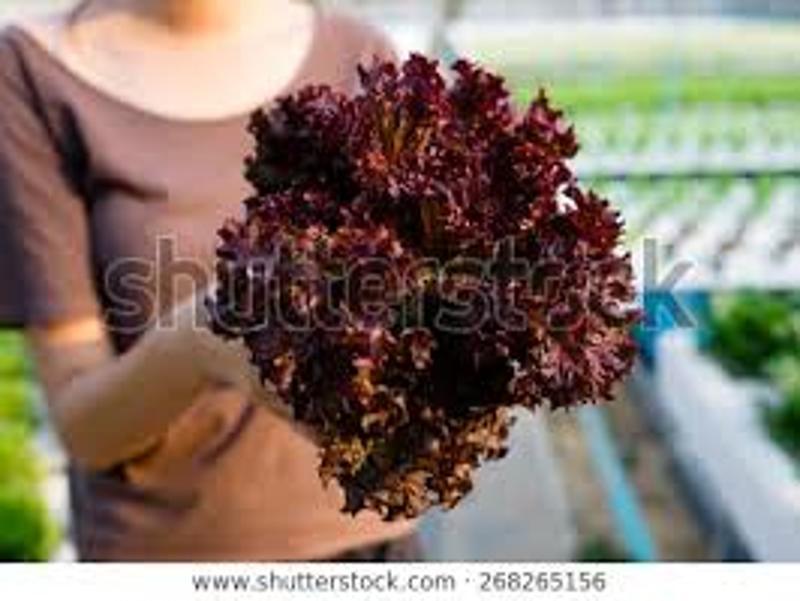red lettuce: (242, 50, 635, 515)
